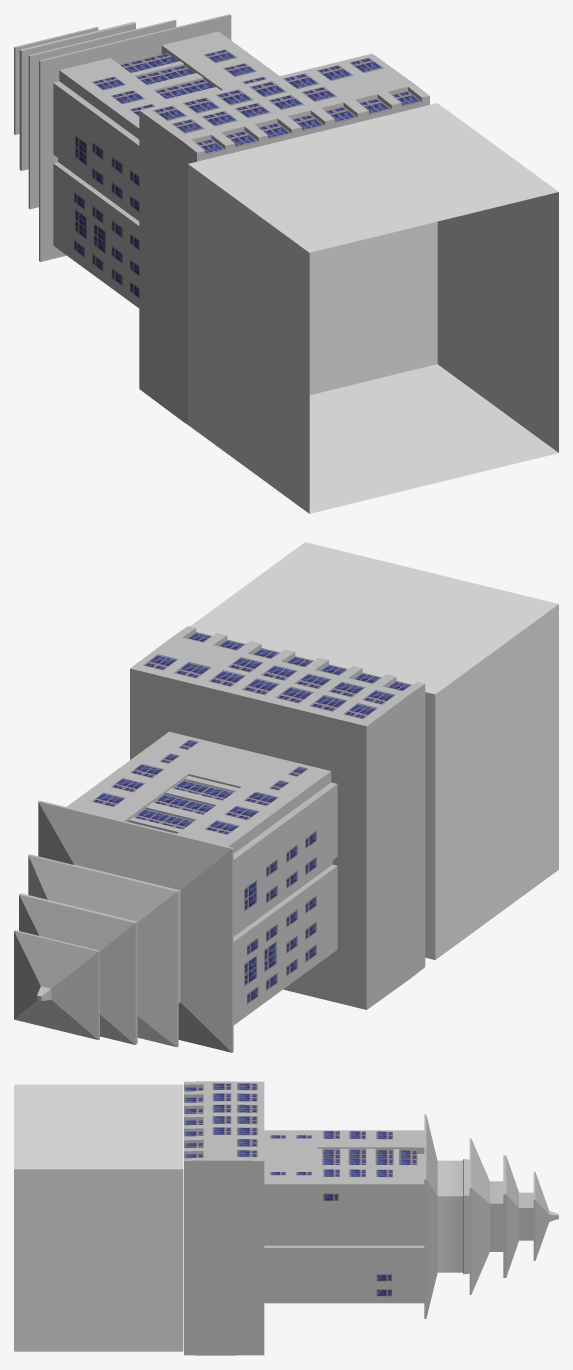
The model's file is block_fat_03.FBX.
3 views of the same model, one above another, from view 1: azimuth 30°, elevation 25°; view 2: azimuth 150°, elevation 25°; view 3: azimuth 270°, elevation 25° (orthographic). The views are drawn at different scales.
Visible parts, largest first — view 1: Plane005, building_6s_009, building_commercial_3s (×2), building_traditional_3s; view 2: Plane005, building_6s_009, building_commercial_3s (×2), building_traditional_3s; view 3: Plane005, building_6s_009, building_commercial_3s (×2), building_traditional_3s.
Part boxes in pixels (x1=…): Plane005: x1=188, y1=103, x2=558, y2=513; building_6s_009: x1=39, y1=14, x2=279, y2=308; building_commercial_3s (×2): x1=139, y1=53, x2=429, y2=424; building_traditional_3s: x1=14, y1=19, x2=176, y2=209; Plane005: x1=190, y1=542, x2=558, y2=959; building_6s_009: x1=38, y1=731, x2=337, y2=1052; building_commercial_3s (×2): x1=130, y1=626, x2=425, y2=1009; building_traditional_3s: x1=14, y1=854, x2=180, y2=1047; Plane005: x1=14, y1=1084, x2=183, y2=1351; building_6s_009: x1=264, y1=1114, x2=437, y2=1318; building_commercial_3s (×2): x1=184, y1=1081, x2=264, y2=1355; building_traditional_3s: x1=437, y1=1138, x2=558, y2=1294.
Bounding box in the file's own units: 30 × 32.45 × 81.4.
